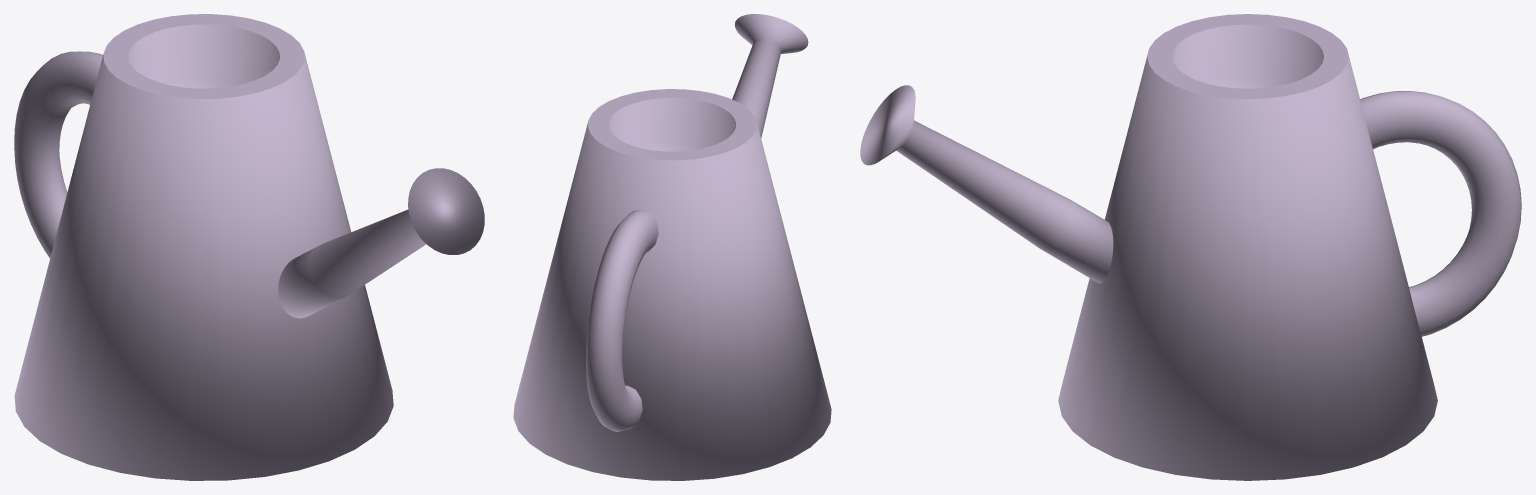
The model's file is Regadera .fbx.
3 views of the same model, side by side, from view 1: azimuth 30°, elevation 25°; view 2: azimuth 150°, elevation 25°; view 3: azimuth 270°, elevation 25° (orthographic). The views are drawn at different scales.
Parts seen in each view (by area): view 1: Cylinder; view 2: Cylinder; view 3: Cylinder.
Part boxes in pixels (x1=…): Cylinder: x1=14, y1=14, x2=484, y2=480; Cylinder: x1=513, y1=14, x2=831, y2=480; Cylinder: x1=860, y1=14, x2=1521, y2=480.
Bounding box in the file's own units: 32.81 × 32.81 × 57.15.
